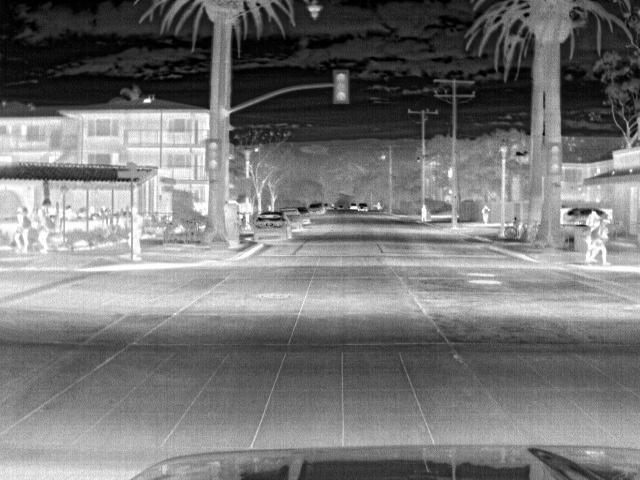car: (253, 212, 293, 246), (563, 209, 607, 224), (275, 209, 306, 230), (305, 200, 327, 216), (354, 199, 371, 211)
person: (11, 208, 32, 250), (34, 208, 52, 255), (595, 224, 613, 267), (129, 205, 143, 260), (585, 208, 605, 231), (479, 200, 492, 228)
